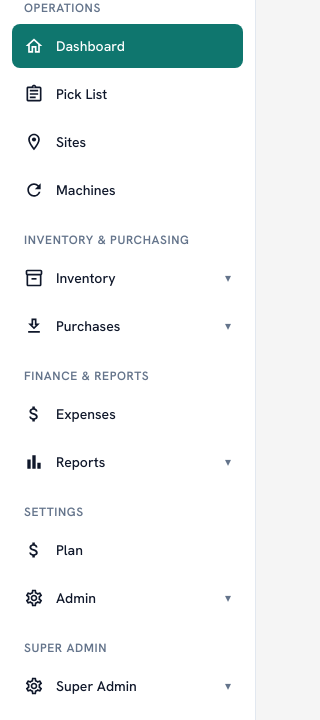
Scenario: SidebarNavComponent Super Admin group (issue #546) › renders Platform Diagnostics, Businesses and Supplier Presets once the API confirms access
This screenshot has width=320, height=720.
(page scrolled)
Click the button "Super Admin ▾" at coordinates (128, 686), box [12, 664, 243, 708]
(page scrolled)
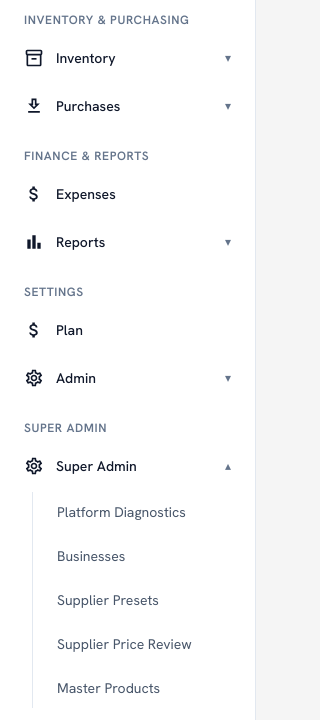
expect the text "Platform Diagnostics" is shown: met, box [57, 502, 186, 522]
expect the text "Businesses" is shown: met, box [57, 546, 125, 566]
expect the text "Supplier Presets" is shown: met, box [57, 590, 159, 610]
